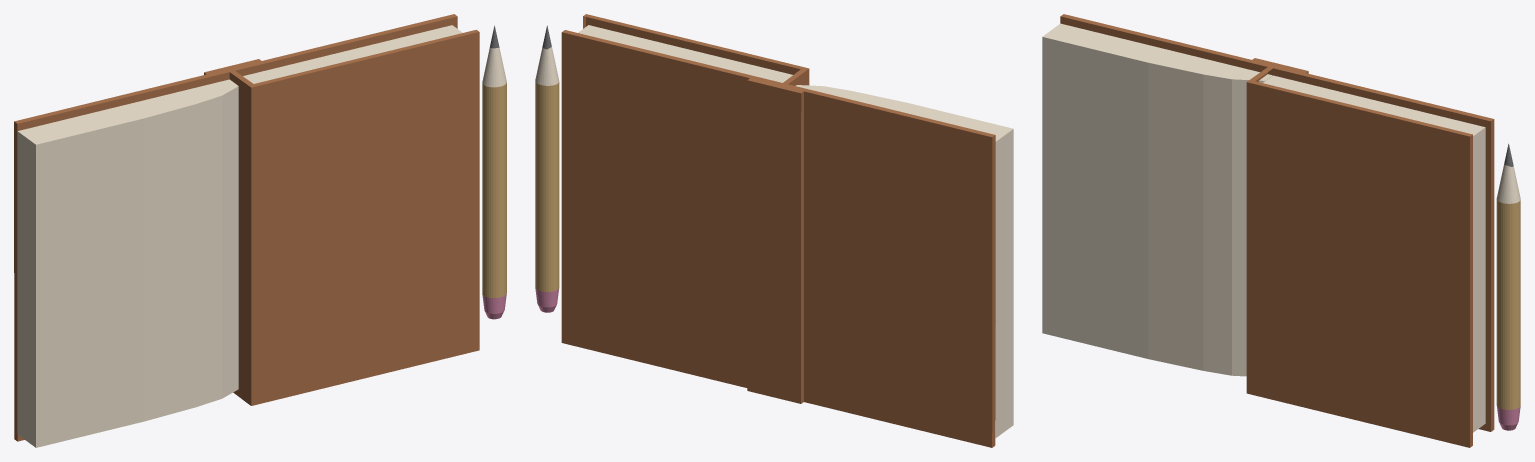
Rendered from guestbook.glb.
The picture shows the model from 3 angles, left to right: view 1: azimuth 30°, elevation 25°; view 2: azimuth 150°, elevation 25°; view 3: azimuth 330°, elevation 25°; orthographic projection. The views are drawn at different scales.
Parts seen in each view (by area): view 1: closed book, open book, guestbook pencil; view 2: open book, closed book, guestbook pencil; view 3: closed book, open book, guestbook pencil.
Boxes of the visible parts, x1,y1,x2,y2 form: closed book: [227, 14, 479, 405]; open book: [14, 15, 460, 447]; guestbook pencil: [482, 25, 506, 319]; open book: [561, 25, 1013, 447]; closed book: [561, 14, 809, 387]; guestbook pencil: [535, 25, 559, 312]; closed book: [1246, 64, 1494, 447]; open book: [1042, 14, 1494, 432]; guestbook pencil: [1496, 143, 1520, 430].
Bounding box in the file's own units: 2.62 × 1.66 × 0.2638.
Materials: 1 (1 with a texture image).
